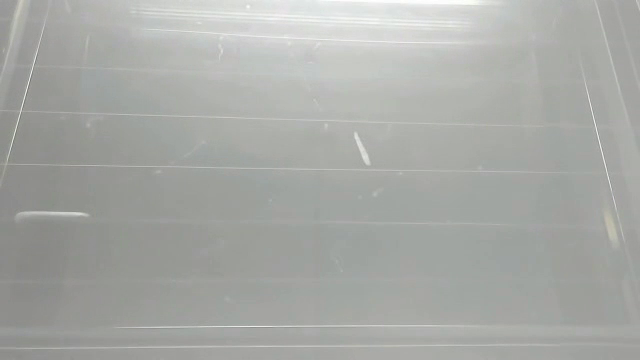alpha: (10, 206, 98, 228), (344, 130, 380, 170)
